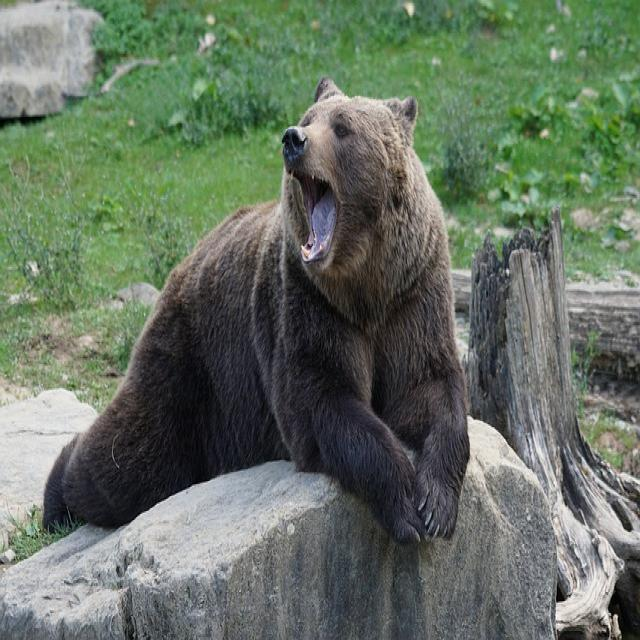Carnivorous: (43, 78, 471, 546)
